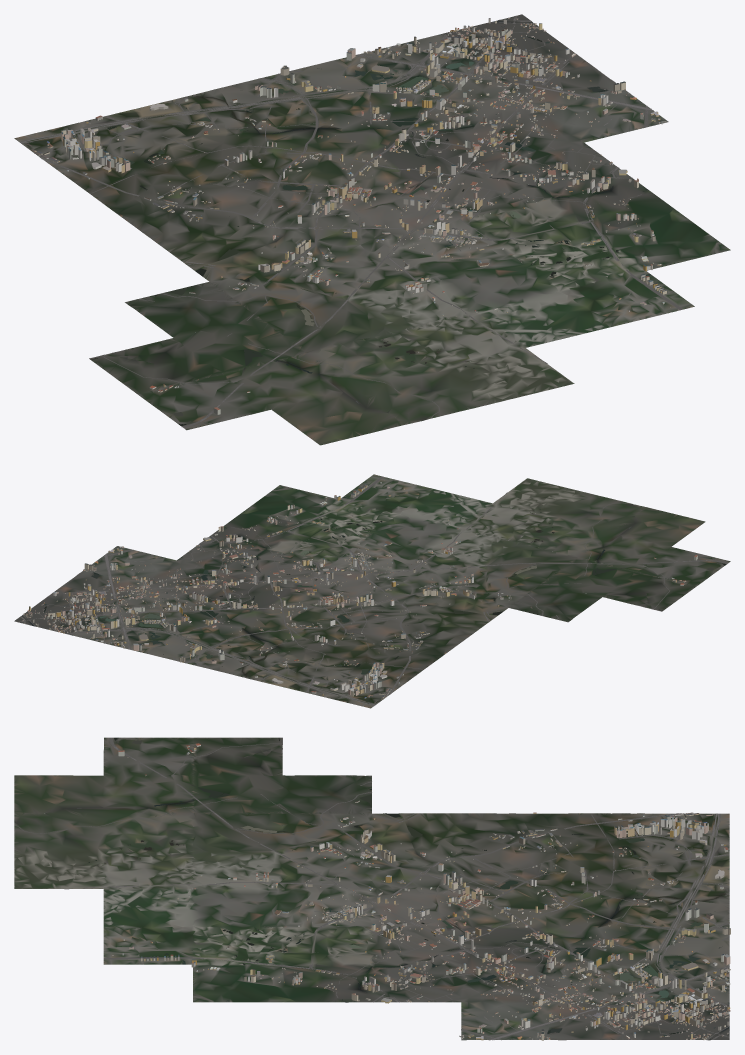
The picture shows the model from 3 angles, top to bottom: view 1: azimuth 30°, elevation 25°; view 2: azimuth 150°, elevation 25°; view 3: azimuth 270°, elevation 25°; orthographic projection. The views are drawn at different scales.
Parts seen in each view (by area): view 1: ground, buildings, roads, water; view 2: ground, buildings, roads, water; view 3: ground, buildings, roads, water.
Boxes of the visible parts, x1,y1,x2,y2 form: ground: [14, 14, 730, 445]; buildings: [25, 17, 670, 414]; roads: [19, 15, 683, 427]; water: [62, 21, 651, 425]; ground: [14, 474, 730, 708]; buildings: [22, 480, 697, 703]; roads: [18, 476, 728, 705]; water: [30, 495, 726, 687]; ground: [14, 737, 729, 1040]; buildings: [112, 743, 730, 1040]; roads: [14, 737, 729, 1040]; water: [77, 737, 729, 1036].
Size of the model in its own units: 11242 by 185 by 11239.
